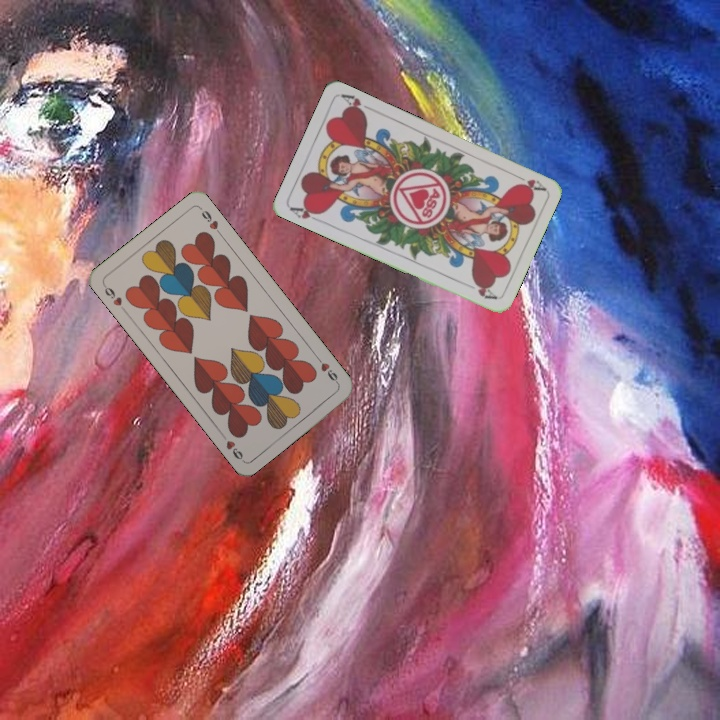H9: (99, 280, 129, 315), (312, 352, 342, 387)
HA: (509, 169, 547, 194), (286, 201, 325, 225)
